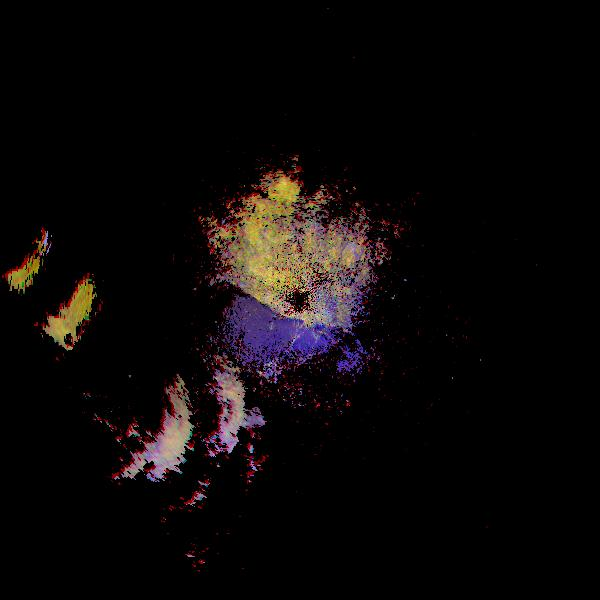roost: (71, 353, 209, 491), (125, 341, 260, 476)
